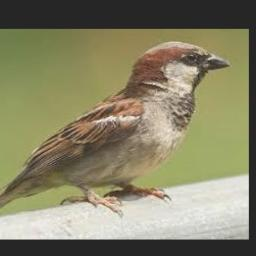Sparrow: (0, 40, 231, 217)
